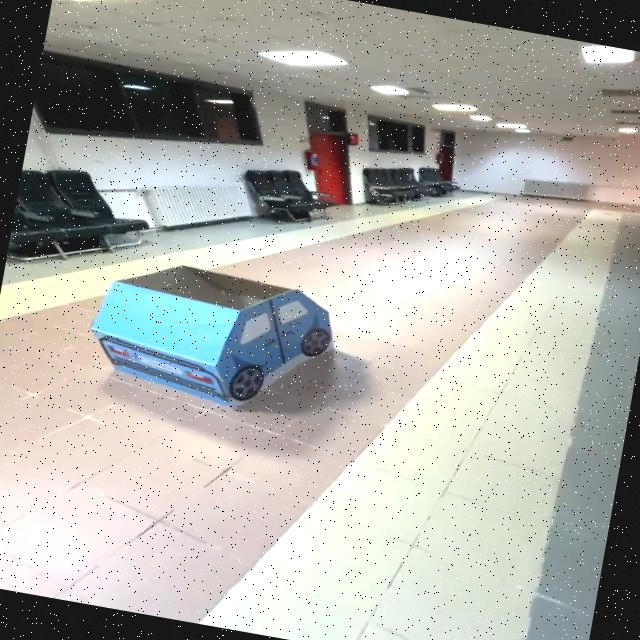blue_car: (53, 239, 359, 433)
